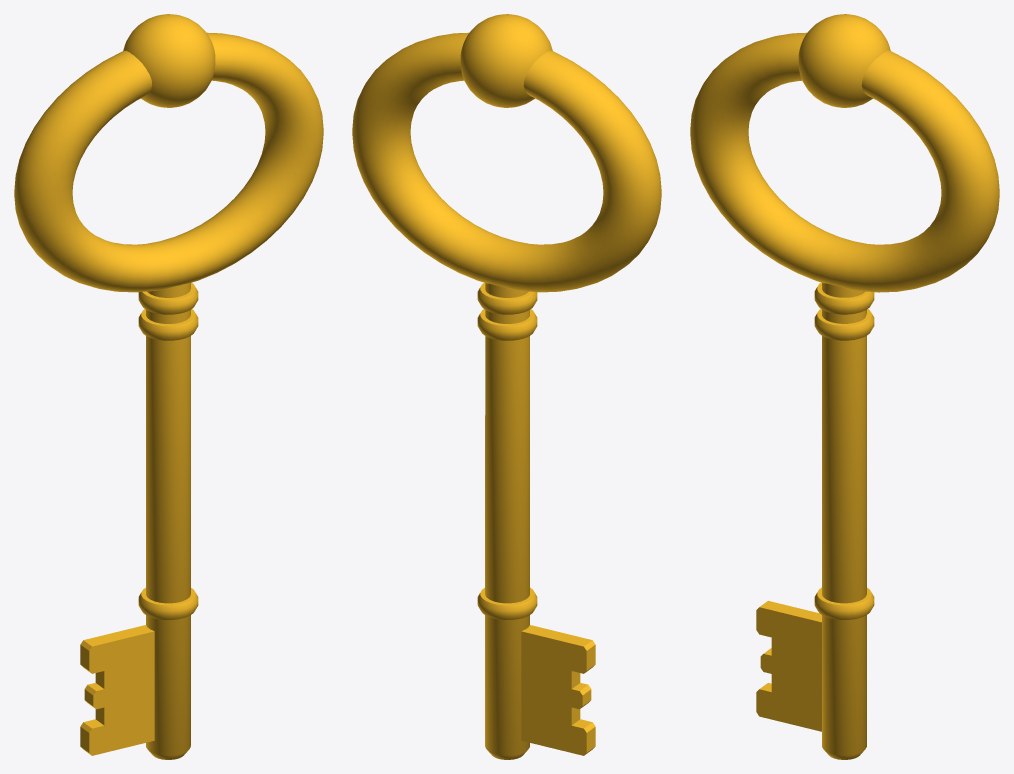
File: jeremywoodsster-gold-2548.glb
3 renders of one model, left to right at view 1: azimuth 30°, elevation 25°; view 2: azimuth 150°, elevation 25°; view 3: azimuth 330°, elevation 25°, orthographic.
Parts seen in each view (by area): view 1: key; view 2: key; view 3: key.
Part boxes in pixels (x1,y1,x2,y2): key: (14,14,323,759); key: (352,14,661,759); key: (690,14,999,759).
Bounding box in the file's own units: 3.44 × 8 × 0.929.
